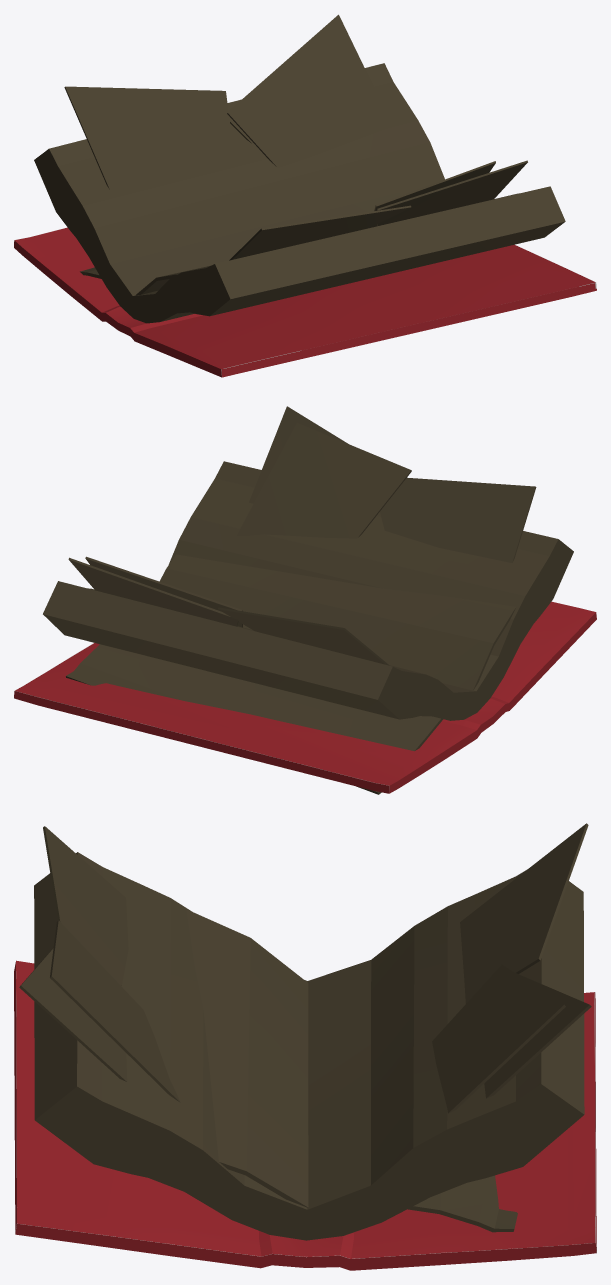
File: enemy1.obj
The picture shows the model from 3 angles, top to bottom: view 1: azimuth 30°, elevation 25°; view 2: azimuth 150°, elevation 25°; view 3: azimuth 270°, elevation 25°; orthographic projection. The views are drawn at different scales.
Visible parts, largest first — view 1: Book1_Open_Cube.106; view 2: Book1_Open_Cube.106; view 3: Book1_Open_Cube.106.
Part boxes in pixels (x1,y1,x2,y2): Book1_Open_Cube.106: [14, 14, 596, 377]; Book1_Open_Cube.106: [14, 406, 596, 794]; Book1_Open_Cube.106: [14, 823, 596, 1270].
Bounding box in the file's own units: 7.4 × 3.4 × 7.12.
2 materials, 1 textured.
